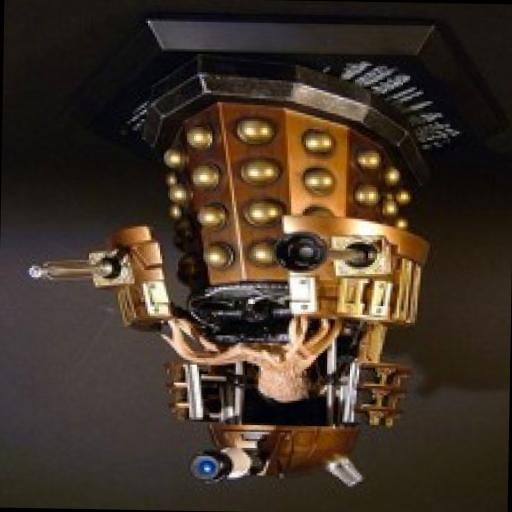dalek: (14, 74, 435, 497)
